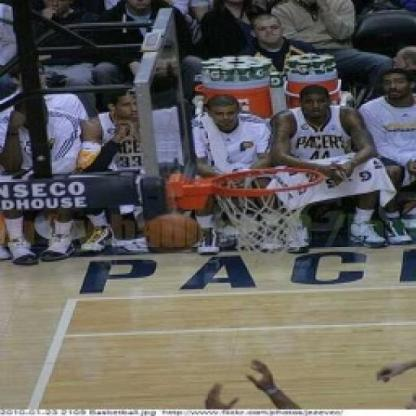basketball: (146, 210, 198, 254)
